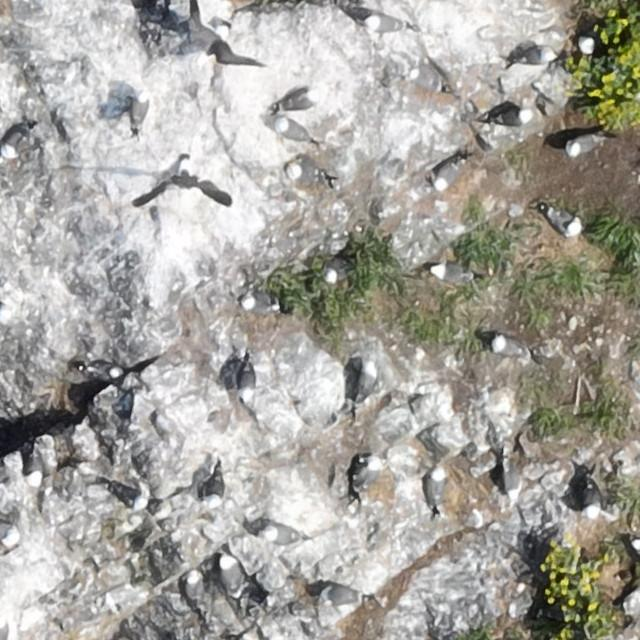F: (148, 153, 222, 208)
umineko: (110, 480, 152, 513), (202, 466, 225, 512), (504, 459, 527, 501), (319, 586, 364, 606), (546, 210, 578, 237), (291, 164, 330, 183), (430, 265, 470, 283), (260, 524, 299, 542), (435, 160, 460, 188), (568, 133, 600, 154), (282, 90, 315, 110), (221, 558, 240, 592), (493, 336, 525, 356), (279, 121, 311, 141), (493, 110, 530, 127), (515, 48, 552, 65), (84, 363, 120, 380), (430, 468, 446, 506), (366, 14, 399, 32), (4, 129, 26, 155), (243, 298, 278, 314), (584, 486, 600, 518), (239, 366, 253, 400), (362, 462, 380, 488), (359, 364, 374, 394), (131, 96, 146, 125), (28, 453, 42, 482), (325, 265, 348, 282), (187, 572, 200, 602), (631, 537, 639, 556)
